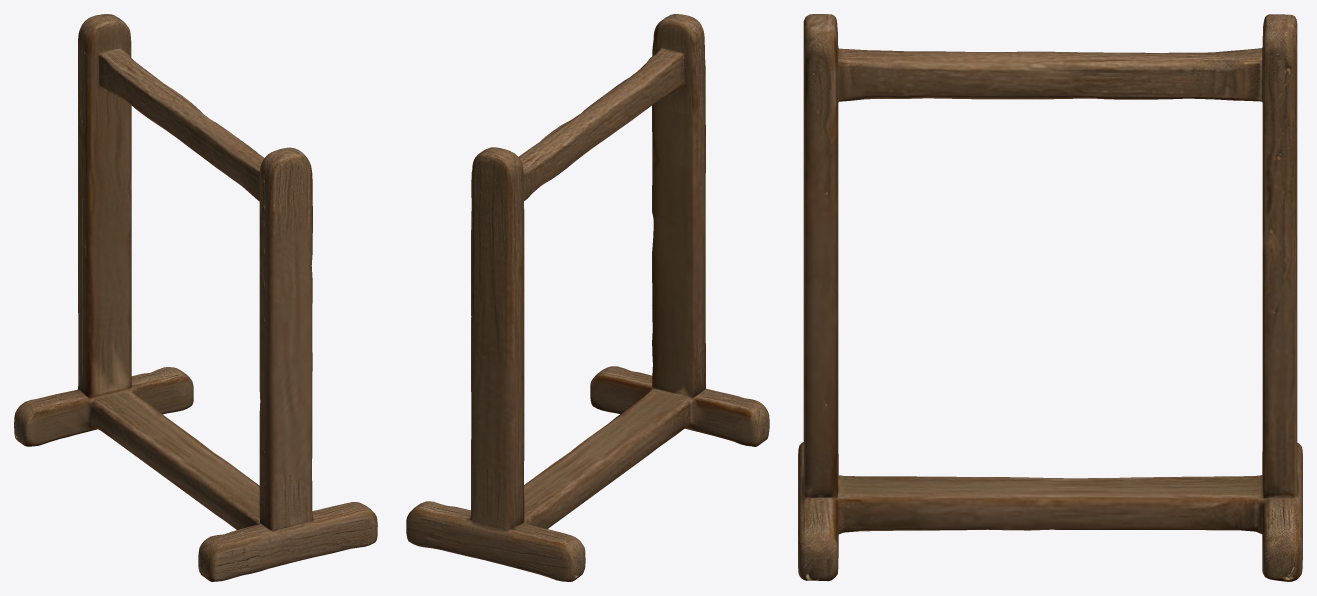
File: rack.glb
3 renders of one model, left to right at view 1: azimuth 30°, elevation 25°; view 2: azimuth 150°, elevation 25°; view 3: azimuth 270°, elevation 25°, orthographic. The views are drawn at different scales.
Parts seen in each view (by area): view 1: tripo_node_b9dd9bc5-4e24-4b35-a4f2-9f94a020e5aa; view 2: tripo_node_b9dd9bc5-4e24-4b35-a4f2-9f94a020e5aa; view 3: tripo_node_b9dd9bc5-4e24-4b35-a4f2-9f94a020e5aa.
Part boxes in pixels (<box>): tripo_node_b9dd9bc5-4e24-4b35-a4f2-9f94a020e5aa: <box>14,14,377,581</box>; tripo_node_b9dd9bc5-4e24-4b35-a4f2-9f94a020e5aa: <box>406,14,769,581</box>; tripo_node_b9dd9bc5-4e24-4b35-a4f2-9f94a020e5aa: <box>798,14,1302,581</box>.
Bounding box in the file's own units: 0.437 × 0.9995 × 0.8921.
1 material, 1 textured.
